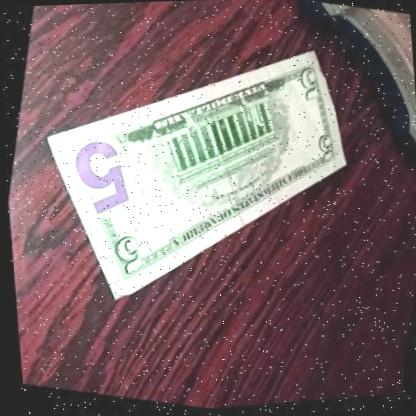five-back: (0, 0, 382, 352)
